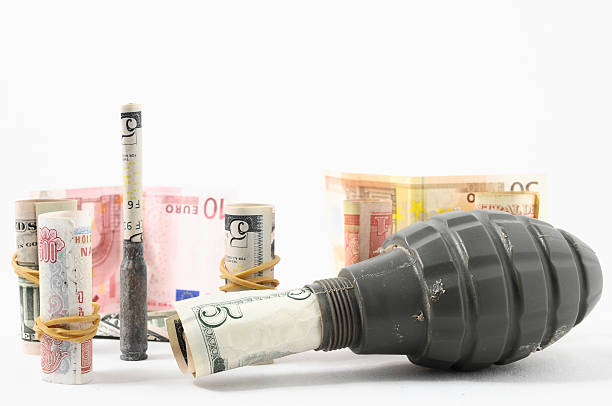e1: (306, 207, 604, 377)
